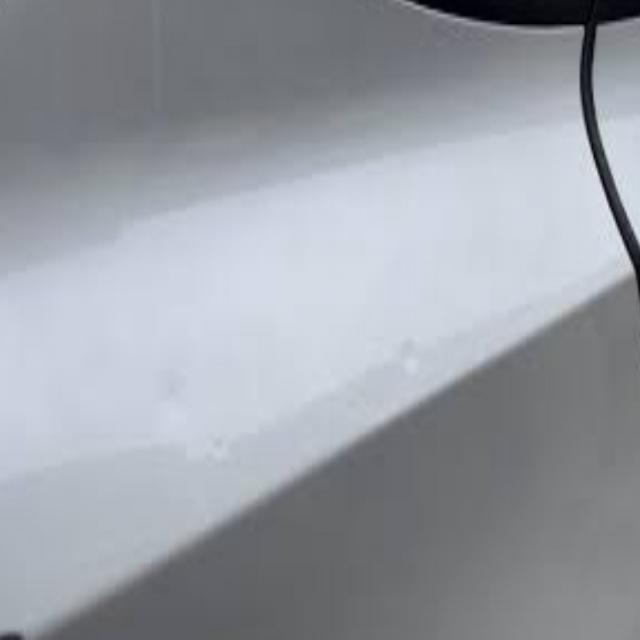dents: (395, 320, 431, 396)
